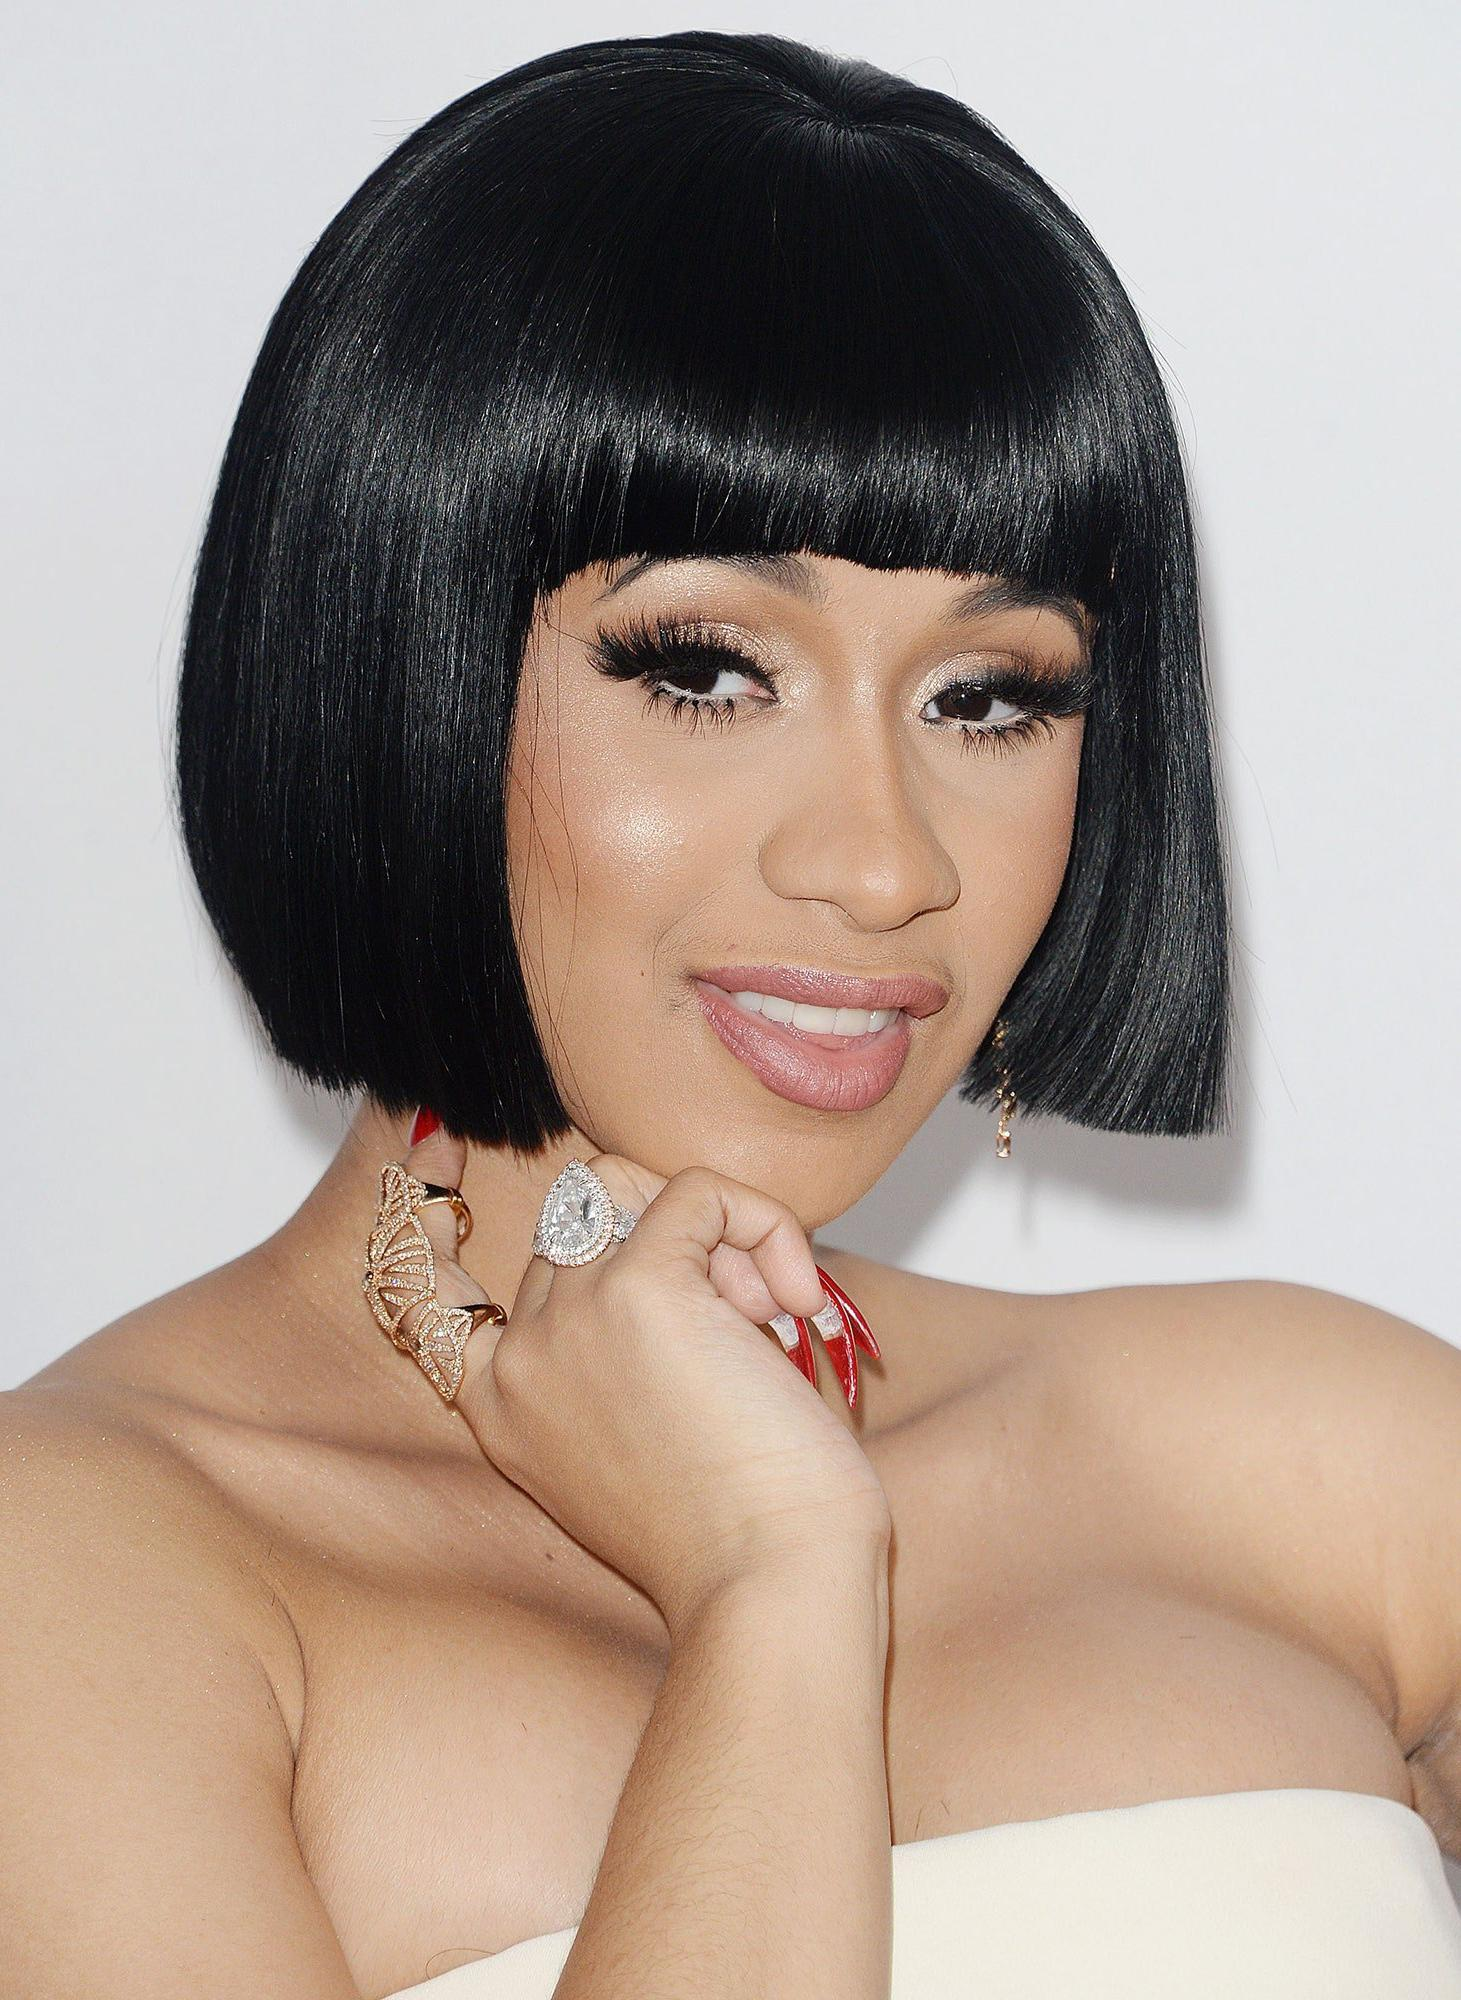Sober: (533, 522, 1068, 1189)
